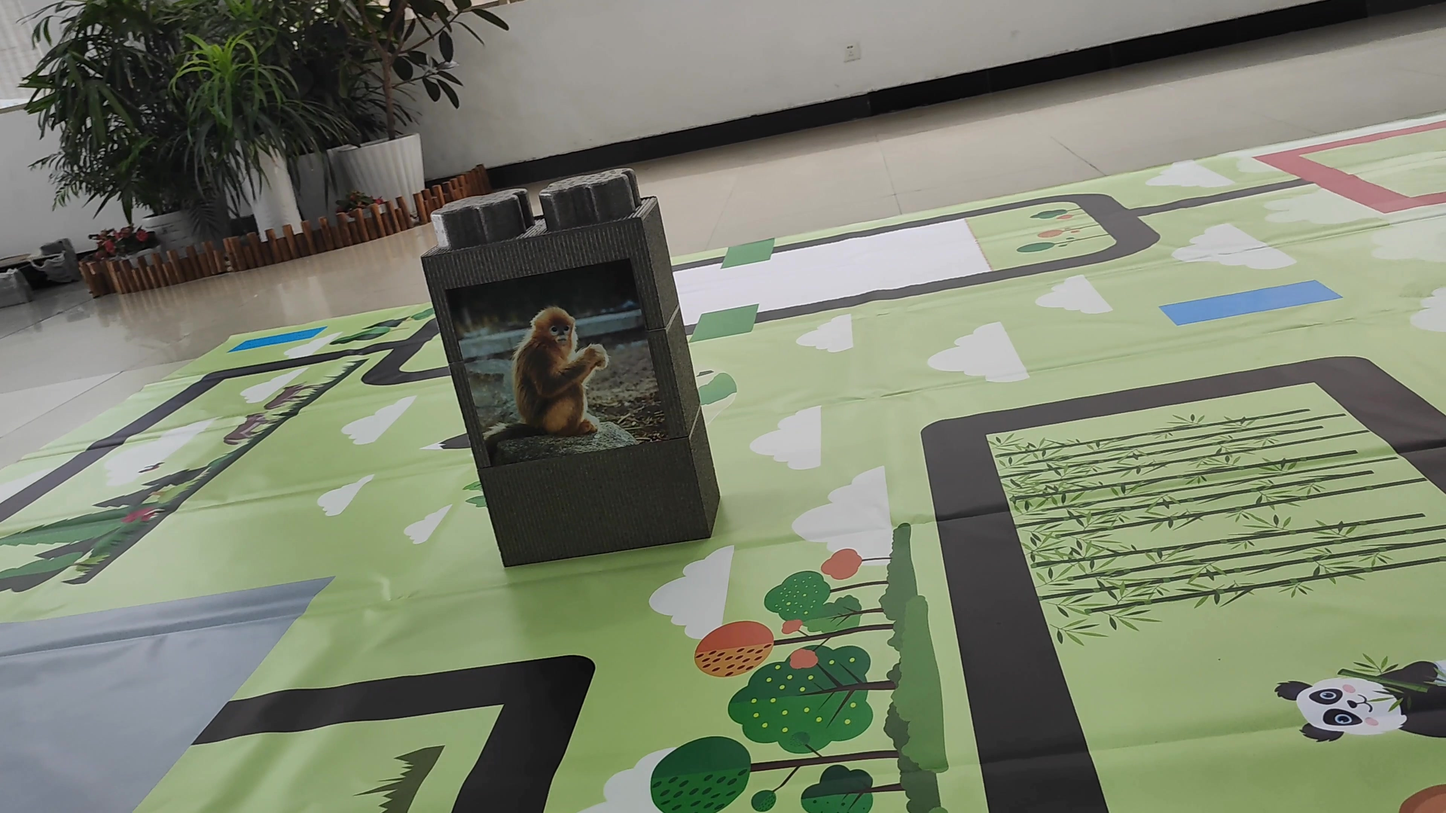monkey: (472, 292, 664, 455)
